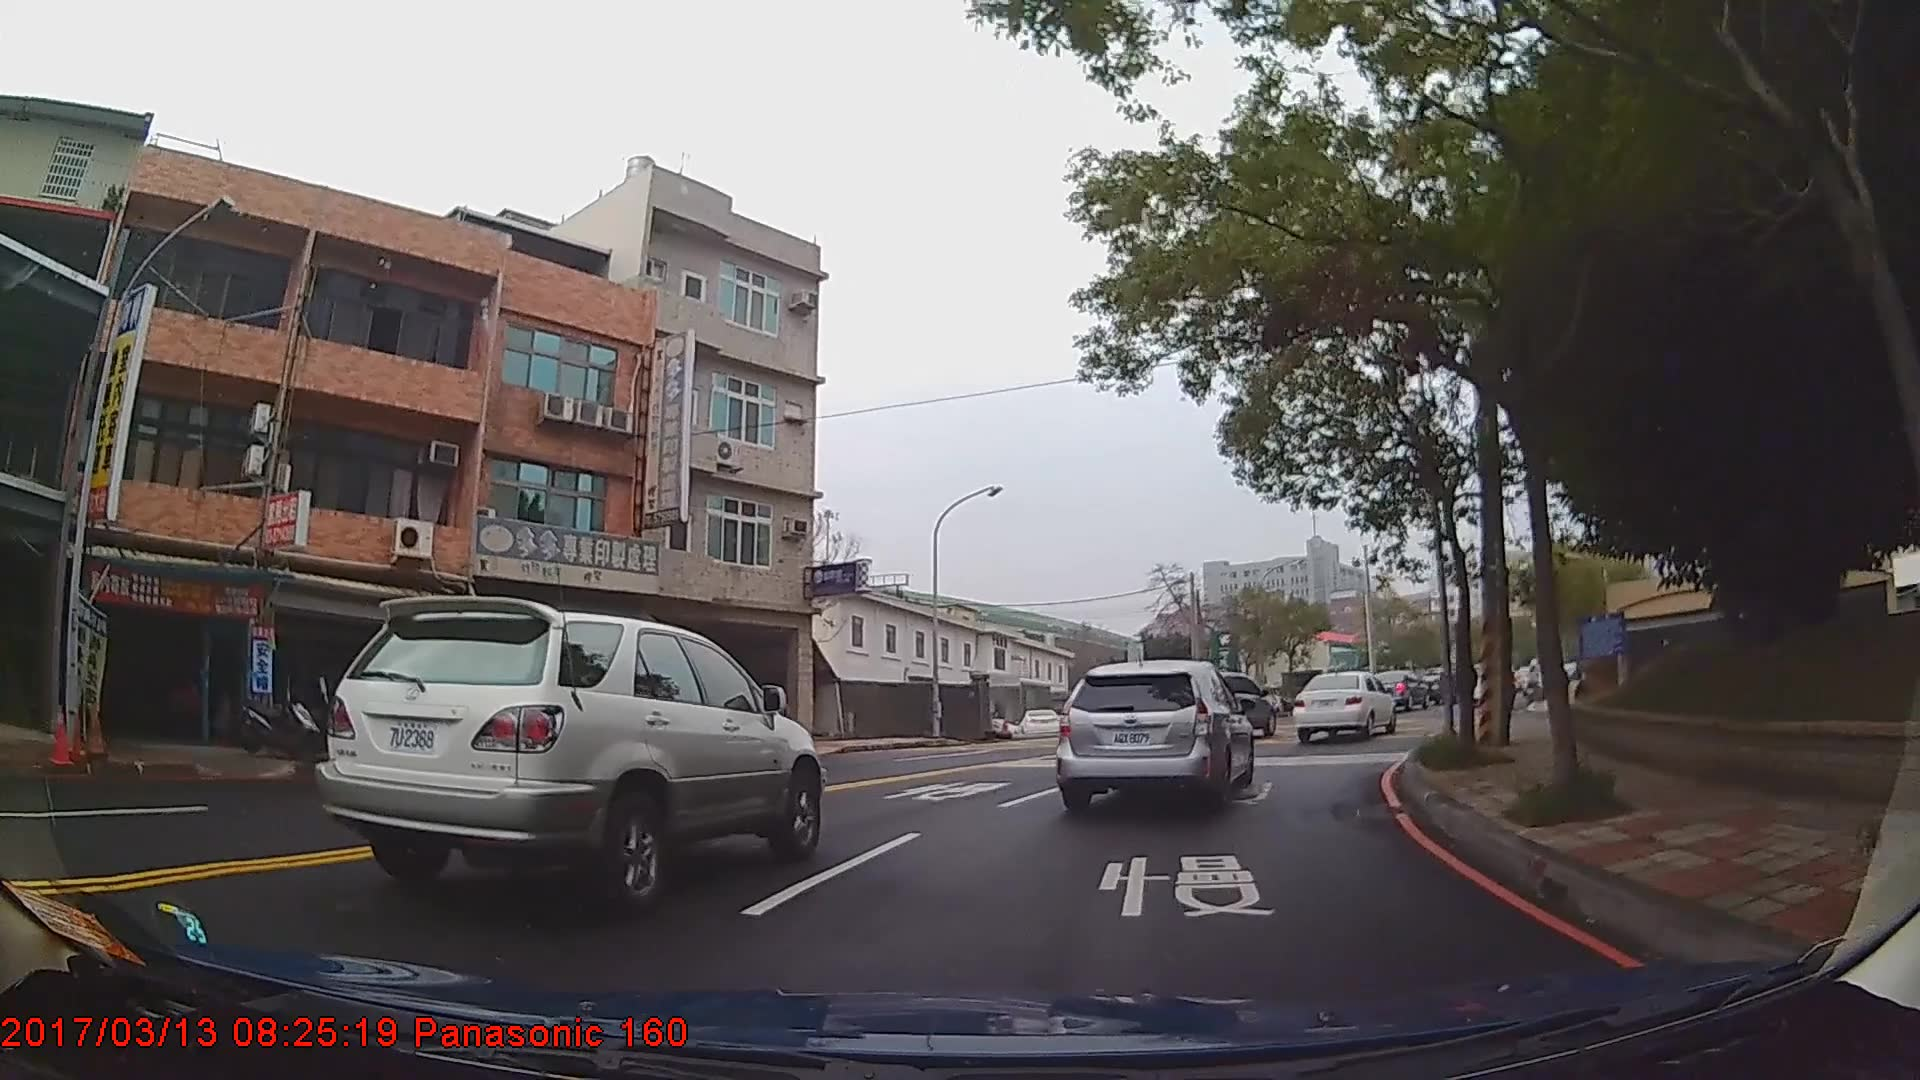vehicle: (313, 593, 824, 916), (1051, 658, 1251, 808), (1290, 670, 1398, 742), (1187, 671, 1276, 742), (1015, 708, 1062, 737)
